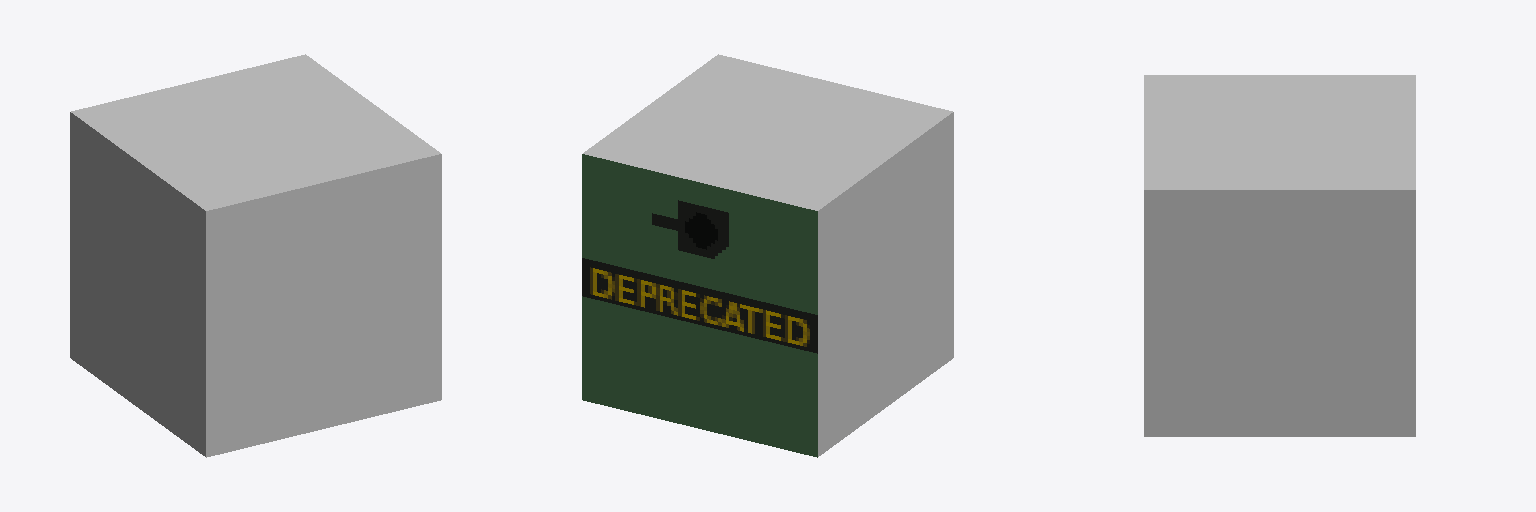
3 views of the same model, side by side, from view 1: azimuth 30°, elevation 25°; view 2: azimuth 150°, elevation 25°; view 3: azimuth 270°, elevation 25° (orthographic).
Visible parts, largest first — view 1: generalCube.003, off.003; view 2: generalCube.003, off.003; view 3: generalCube.003, off.003.
Part boxes in pixels (x1,y1,x2,y2): generalCube.003: (75, 57, 441, 457); off.003: (70, 54, 310, 363); generalCube.003: (589, 54, 953, 453); off.003: (582, 148, 825, 457); generalCube.003: (1144, 75, 1406, 436); off.003: (1399, 75, 1415, 436).
Bounding box in the file's own units: 1 × 1 × 1.
3 materials, 2 textured.